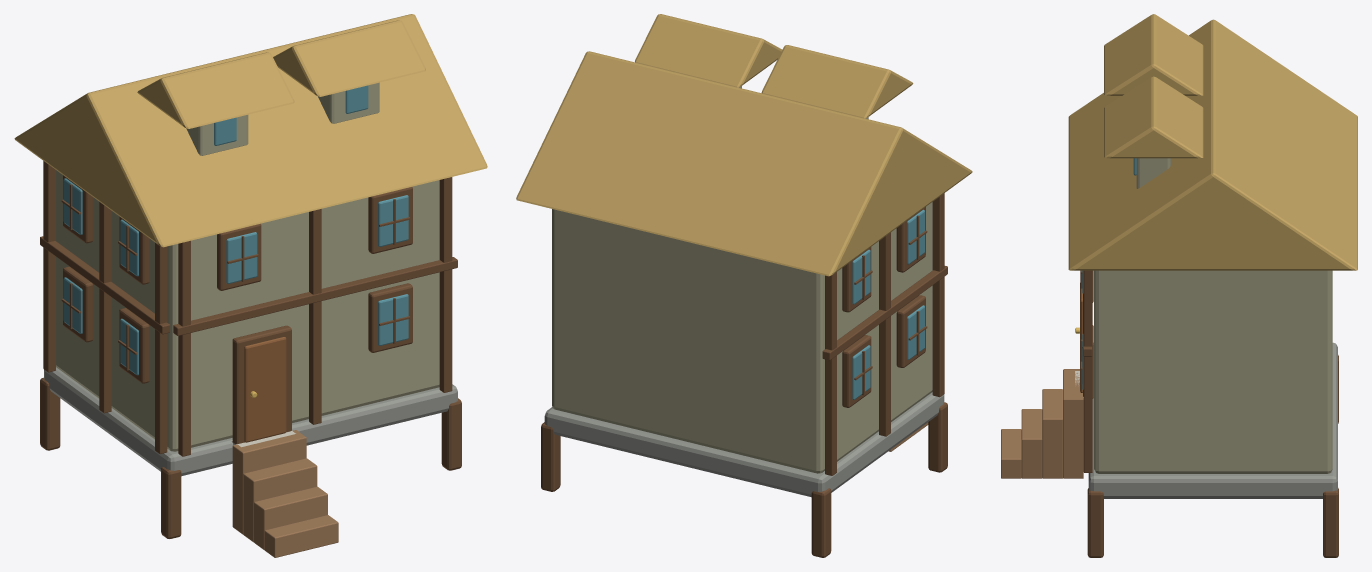
The model's file is wetland-townhouse-0.glb.
3 renders of one model, left to right at view 1: azimuth 30°, elevation 25°; view 2: azimuth 150°, elevation 25°; view 3: azimuth 270°, elevation 25°, orthographic. The views are drawn at different scales.
Visible parts, largest first — view 1: Golden thatch, Weathered planks, Dark beams, Aged oak, Foundation stone, Blue glass, Door oak; view 2: Golden thatch, Weathered planks, Dark beams, Foundation stone, Blue glass; view 3: Golden thatch, Weathered planks, Foundation stone, Aged oak, Dark beams.
Boxes of the visible parts, x1=… form: Golden thatch: x1=14, y1=14, x2=487, y2=247; Weathered planks: x1=56, y1=82, x2=439, y2=451; Dark beams: x1=40, y1=161, x2=461, y2=538; Aged oak: x1=232, y1=430, x2=338, y2=557; Foundation stone: x1=44, y1=367, x2=457, y2=476; Blue glass: x1=63, y1=85, x2=408, y2=375; Door oak: x1=244, y1=337, x2=286, y2=442; Golden thatch: x1=516, y1=14, x2=972, y2=276; Weathered planks: x1=552, y1=86, x2=932, y2=473; Dark beams: x1=541, y1=193, x2=947, y2=557; Foundation stone: x1=544, y1=392, x2=944, y2=497; Blue glass: x1=852, y1=209, x2=924, y2=399; Golden thatch: x1=1068, y1=14, x2=1357, y2=270; Weathered planks: x1=1094, y1=158, x2=1332, y2=473; Foundation stone: x1=1088, y1=342, x2=1337, y2=498; Aged oak: x1=1001, y1=369, x2=1083, y2=478; Dark beams: x1=1080, y1=270, x2=1338, y2=557.
Bounding box in the file's own units: 4.1 × 5.14 × 3.97.
